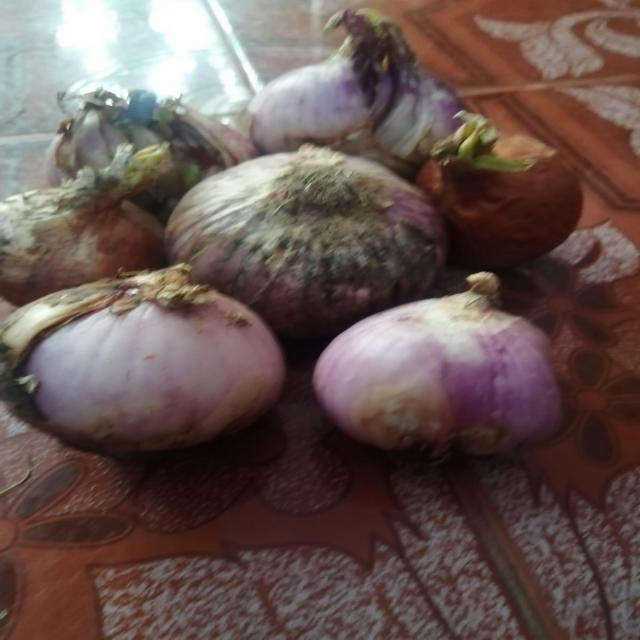rotten: (254, 229, 441, 280), (379, 390, 487, 454), (126, 102, 216, 168)
sprouting: (336, 10, 406, 60), (446, 125, 516, 172), (118, 146, 170, 192)
